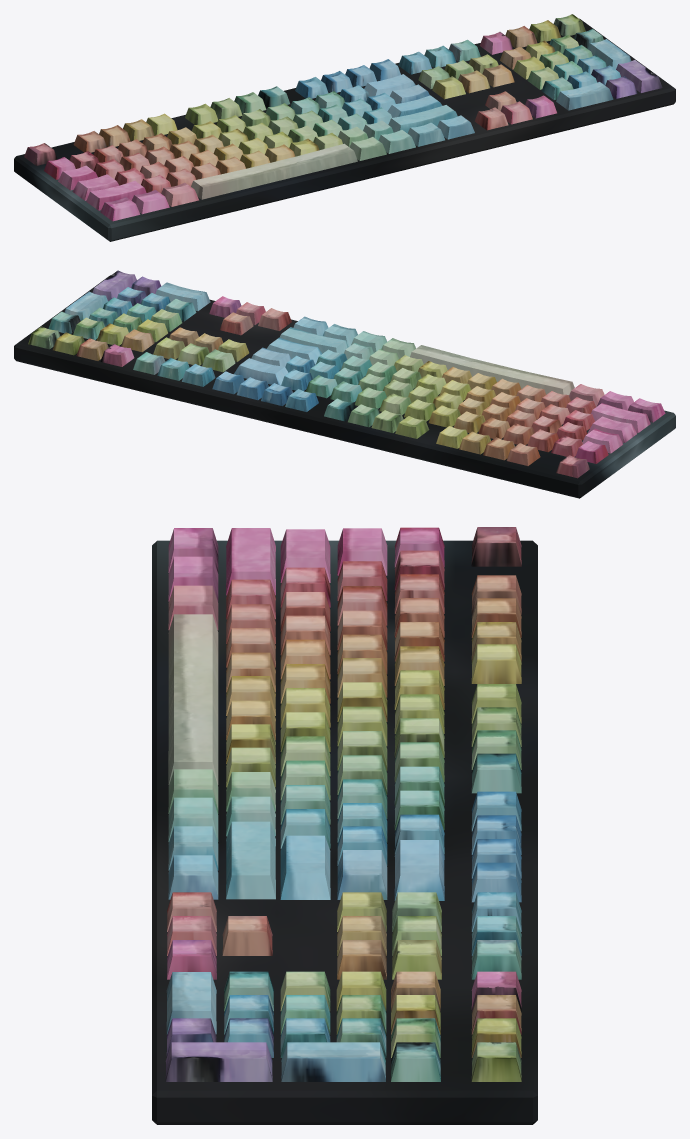
Rendered from keyboard.obj.
The picture shows the model from 3 angles, top to bottom: view 1: azimuth 30°, elevation 25°; view 2: azimuth 150°, elevation 25°; view 3: azimuth 270°, elevation 25°; orthographic projection. The views are drawn at different scales.
Visible parts, largest first — view 1: Base_Cube.001, Key_SPACE_Key_LP.003, Key_NUM_0_Key_LP.007, Key_RSHIFT_Key_LP.005, Key_NUM_ENTER_Key_LP.021, Key_LEFT_SHIFT_Key_LP.004, Key_NUM_ADD_Key_LP.006, Key_ENTER_Key_LP.018, Key_BACKSPACE_Key_LP.020, Key_LEFT_CONTROL_Key_LP.013, Key_SUPER_Key_LP.014, Key_ALT_Key_LP.015 (+85 smaller); view 2: Base_Cube.001, Key_SPACE_Key_LP.003, Key_RSHIFT_Key_LP.005, Key_BACKSPACE_Key_LP.020, Key_LEFT_SHIFT_Key_LP.004, Key_NUM_0_Key_LP.007, Key_NUM_ENTER_Key_LP.021, Key_ENTER_Key_LP.018, Key_NUM_ADD_Key_LP.006, Key_CAPSLOCK_Key_LP.016, Key_TAB_Key_LP.017, Key_F5_Key_LP.060 (+83 smaller); view 3: Base_Cube.001, Key_SPACE_Key_LP.003, Key_NUM_ENTER_Key_LP.021, Key_NUM_ADD_Key_LP.006, Key_RSHIFT_Key_LP.005, Key_ENTER_Key_LP.018, Key_BACKSPACE_Key_LP.020, Key_LEFT_SHIFT_Key_LP.004, Key_NUM_0_Key_LP.007, Key_\_Key_LP.019, Key_CAPSLOCK_Key_LP.016, Key_ESCAPE_Key_LP.012 (+97 smaller).
Part boxes in pixels (x1=…): Base_Cube.001: x1=14, y1=18, x2=675, y2=241; Key_SPACE_Key_LP.003: x1=191, y1=143, x2=357, y2=199; Key_NUM_0_Key_LP.007: x1=556, y1=82, x2=613, y2=110; Key_RSHIFT_Key_LP.005: x1=388, y1=105, x2=457, y2=133; Key_NUM_ENTER_Key_LP.021: x1=616, y1=60, x2=662, y2=92; Key_LEFT_SHIFT_Key_LP.004: x1=86, y1=181, x2=146, y2=210; Key_NUM_ADD_Key_LP.006: x1=587, y1=39, x2=631, y2=69; Key_ENTER_Key_LP.018: x1=387, y1=95, x2=442, y2=117; Key_BACKSPACE_Key_LP.020: x1=364, y1=74, x2=415, y2=96; Key_LEFT_CONTROL_Key_LP.013: x1=100, y1=197, x2=140, y2=221; Key_SUPER_Key_LP.014: x1=131, y1=190, x2=169, y2=214; Key_ALT_Key_LP.015: x1=161, y1=182, x2=198, y2=206; Base_Cube.001: x1=14, y1=275, x2=675, y2=498; Key_SPACE_Key_LP.003: x1=410, y1=345, x2=574, y2=394; Key_RSHIFT_Key_LP.005: x1=279, y1=327, x2=348, y2=353; Key_BACKSPACE_Key_LP.020: x1=234, y1=358, x2=288, y2=385; Key_LEFT_SHIFT_Key_LP.004: x1=591, y1=403, x2=650, y2=432; Key_NUM_0_Key_LP.007: x1=155, y1=282, x2=210, y2=310; Key_NUM_ENTER_Key_LP.021: x1=92, y1=270, x2=136, y2=301; Key_ENTER_Key_LP.018: x1=266, y1=337, x2=321, y2=364; Key_NUM_ADD_Key_LP.006: x1=64, y1=291, x2=107, y2=320; Key_CAPSLOCK_Key_LP.016: x1=587, y1=416, x2=636, y2=442; Key_TAB_Key_LP.017: x1=582, y1=428, x2=623, y2=453; Key_F5_Key_LP.060: x1=395, y1=416, x2=429, y2=438; Base_Cube.001: x1=152, y1=540, x2=537, y2=1124; Key_SPACE_Key_LP.003: x1=168, y1=614, x2=218, y2=785; Key_NUM_ENTER_Key_LP.021: x1=165, y1=1042, x2=272, y2=1081; Key_NUM_ADD_Key_LP.006: x1=281, y1=1042, x2=385, y2=1081; Key_RSHIFT_Key_LP.005: x1=226, y1=821, x2=275, y2=899; Key_ENTER_Key_LP.018: x1=280, y1=835, x2=330, y2=899; Key_BACKSPACE_Key_LP.020: x1=394, y1=840, x2=444, y2=900; Key_LEFT_SHIFT_Key_LP.004: x1=226, y1=528, x2=275, y2=595; Key_NUM_0_Key_LP.007: x1=166, y1=972, x2=216, y2=1034; Key_\_Key_LP.019: x1=337, y1=850, x2=387, y2=899; Key_CAPSLOCK_Key_LP.016: x1=280, y1=529, x2=330, y2=582; Key_ESCAPE_Key_LP.012: x1=471, y1=527, x2=521, y2=566.
Bounding box in the file's own units: 1.83 × 0.1049 × 0.5394.
1 material, 1 textured.
